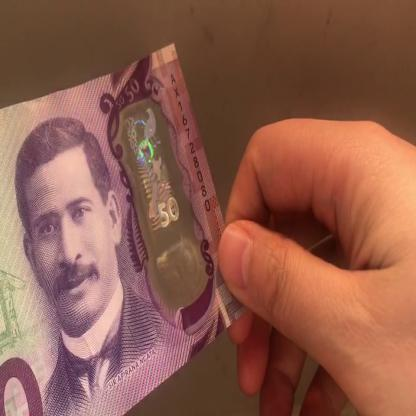50F: (122, 108, 199, 294)
